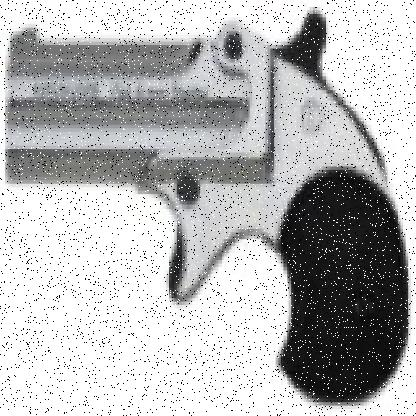pistol: (8, 10, 403, 402)
